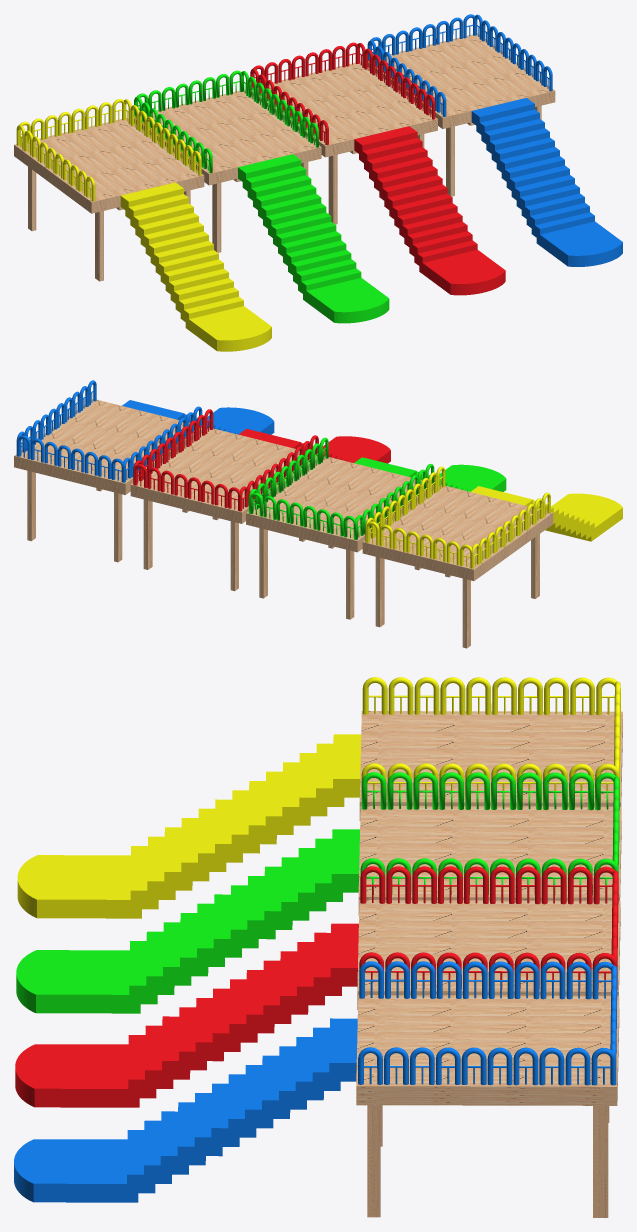
Rendered from duck-standing-platform-complete-textured.glb.
The picture shows the model from 3 angles, top to bottom: view 1: azimuth 30°, elevation 25°; view 2: azimuth 150°, elevation 25°; view 3: azimuth 270°, elevation 25°; orthographic projection. The views are drawn at different scales.
Parts seen in each view (by area): view 1: Material_007-material, Material_003-material, Material_006-material, Material_005-material, Material_001-material, Material_001-material_1, Material_001-material_3, Material_001-material_2, Material_002-material, Material_002-material_1, Material_002-material_2, Material_002-material_3; view 2: Material_001-material, Material_007-material, Material_001-material_1, Material_001-material_3, Material_001-material_2, Material_003-material, Material_006-material, Material_005-material, Material_002-material, Material_002-material_2, Material_002-material_1, Material_002-material_3; view 3: Material_003-material, Material_007-material, Material_005-material, Material_006-material, Material_001-material_3, Material_001-material_2, Material_001-material, Material_001-material_1, Material_002-material_3.
Boxes of the visible parts, left/top/right/bottom form: Material_007-material: left=16, top=99, right=271, bottom=351; Material_003-material: left=367, top=14, right=622, bottom=266; Material_006-material: left=134, top=70, right=389, bottom=323; Material_005-material: left=250, top=42, right=505, bottom=295; Material_001-material: left=14, top=118, right=204, bottom=213; Material_001-material_1: left=134, top=89, right=321, bottom=185; Material_001-material_3: left=368, top=33, right=555, bottom=128; Material_001-material_2: left=251, top=61, right=437, bottom=157; Material_002-material: left=28, top=167, right=190, bottom=281; Material_002-material_1: left=212, top=162, right=308, bottom=252; Material_002-material_2: left=328, top=134, right=424, bottom=224; Material_002-material_3: left=446, top=105, right=541, bottom=196; Material_001-material: left=362, top=485, right=553, bottom=580; Material_007-material: left=365, top=466, right=622, bottom=568; Material_001-material_1: left=246, top=456, right=433, bottom=552; Material_001-material_3: left=14, top=399, right=201, bottom=494; Material_001-material_2: left=130, top=428, right=317, bottom=523; Material_003-material: left=16, top=380, right=274, bottom=482; Material_006-material: left=248, top=437, right=506, bottom=539; Material_005-material: left=133, top=409, right=390, bottom=511; Material_002-material: left=375, top=534, right=539, bottom=648; Material_002-material_2: left=143, top=499, right=305, bottom=591; Material_002-material_1: left=259, top=528, right=421, bottom=619; Material_002-material_3: left=27, top=470, right=188, bottom=562; Material_003-material: left=14, top=961, right=617, bottom=1202; Material_007-material: left=17, top=677, right=620, bottom=918; Material_005-material: left=15, top=866, right=618, bottom=1107; Material_006-material: left=16, top=772, right=619, bottom=1013; Material_001-material_3: left=356, top=995, right=619, bottom=1105; Material_001-material_2: left=357, top=900, right=620, bottom=1010; Material_001-material: left=359, top=711, right=622, bottom=820; Material_001-material_1: left=358, top=806, right=621, bottom=915; Material_002-material_3: left=367, top=1105, right=608, bottom=1217.
Size of the model in its own units: 21.81 by 4.77 by 14.93.
Materials: 5 (1 with a texture image).
